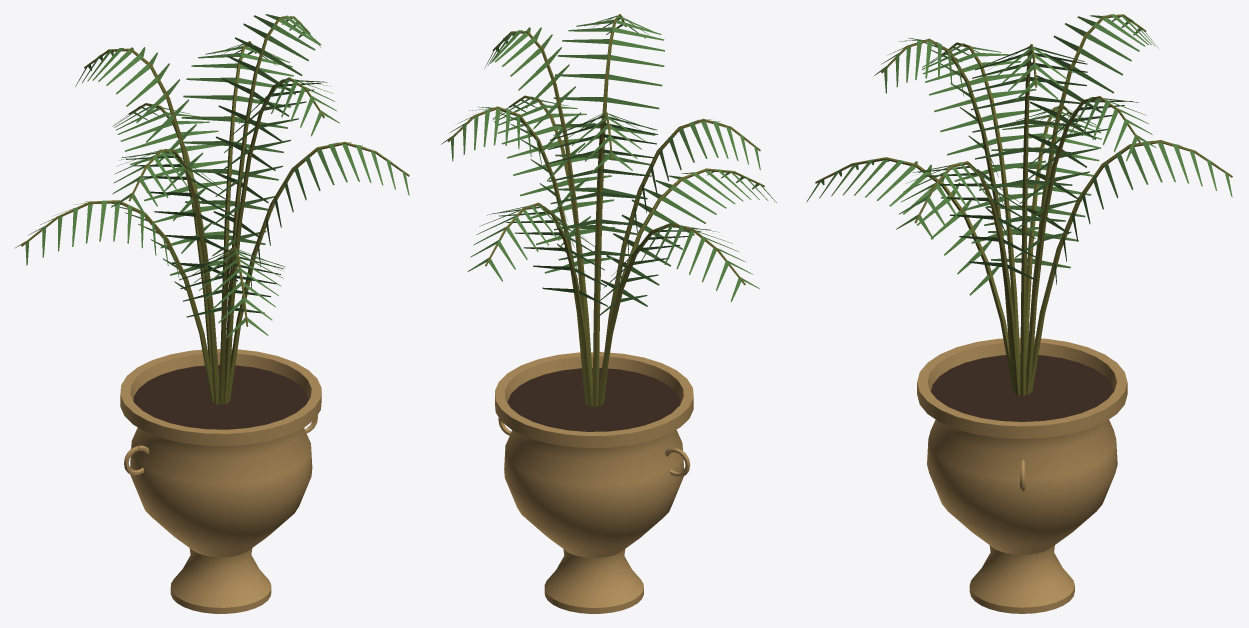
File: urn_palm.glb
3 renders of one model, left to right at view 1: azimuth 30°, elevation 25°; view 2: azimuth 150°, elevation 25°; view 3: azimuth 270°, elevation 25°, orthographic. The views are drawn at different scales.
Parts seen in each view (by area): view 1: urn_palm, fronds; view 2: urn_palm, fronds; view 3: urn_palm, fronds.
Boxes of the visible parts, x1,y1,x2,y2 form: urn_palm: [120, 349, 321, 613]; fronds: [15, 14, 409, 404]; urn_palm: [495, 352, 693, 613]; fronds: [441, 14, 776, 407]; urn_palm: [917, 337, 1127, 613]; fronds: [806, 14, 1232, 395].
Size of the model in its own units: 1.13 by 1.82 by 1.22.
